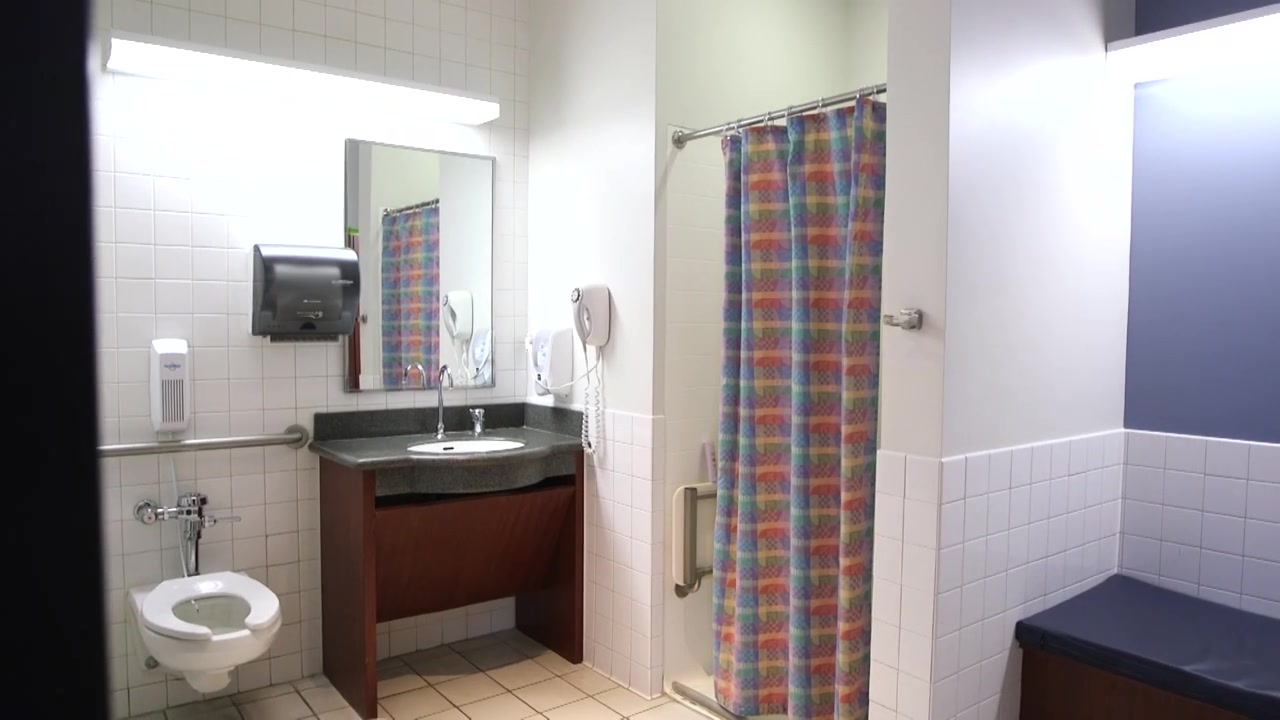chair: (1016, 554, 1280, 720)
countertop: (310, 428, 585, 473)
curtain: (716, 96, 893, 720), (380, 195, 441, 387)
dispenser: (248, 245, 362, 342), (146, 335, 201, 443), (525, 328, 576, 397), (468, 327, 493, 382)
faucet: (431, 364, 484, 438), (404, 362, 429, 388)
restroom_assist_bar: (98, 423, 309, 460)
sink: (409, 438, 524, 452)
toilet: (128, 568, 285, 695)
toilet_handle: (210, 511, 252, 522)
